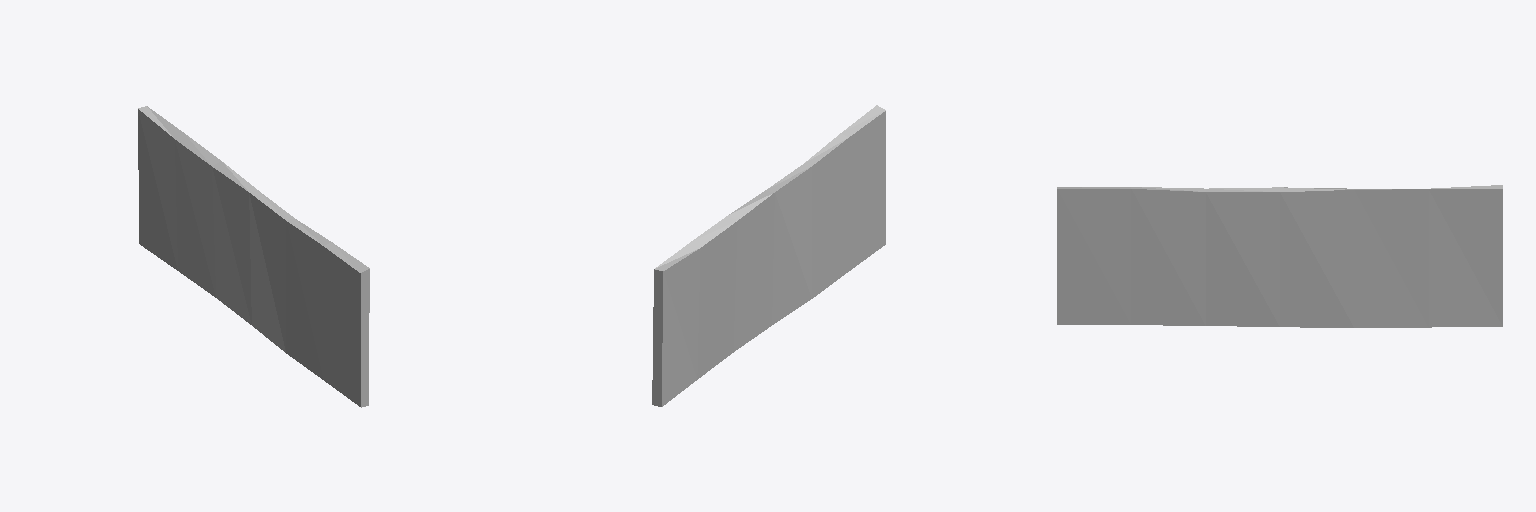
The model's file is fence.obj.
3 views of the same model, side by side, from view 1: azimuth 30°, elevation 25°; view 2: azimuth 150°, elevation 25°; view 3: azimuth 270°, elevation 25° (orthographic).
Parts seen in each view (by area): view 1: Cube; view 2: Cube; view 3: Cube.
Boxes of the visible parts, x1,y1,x2,y2 form: Cube: [138, 106, 369, 407]; Cube: [652, 105, 885, 406]; Cube: [1057, 185, 1502, 327].
Bounding box in the file's own units: 0.2107 × 2.01 × 5.92.